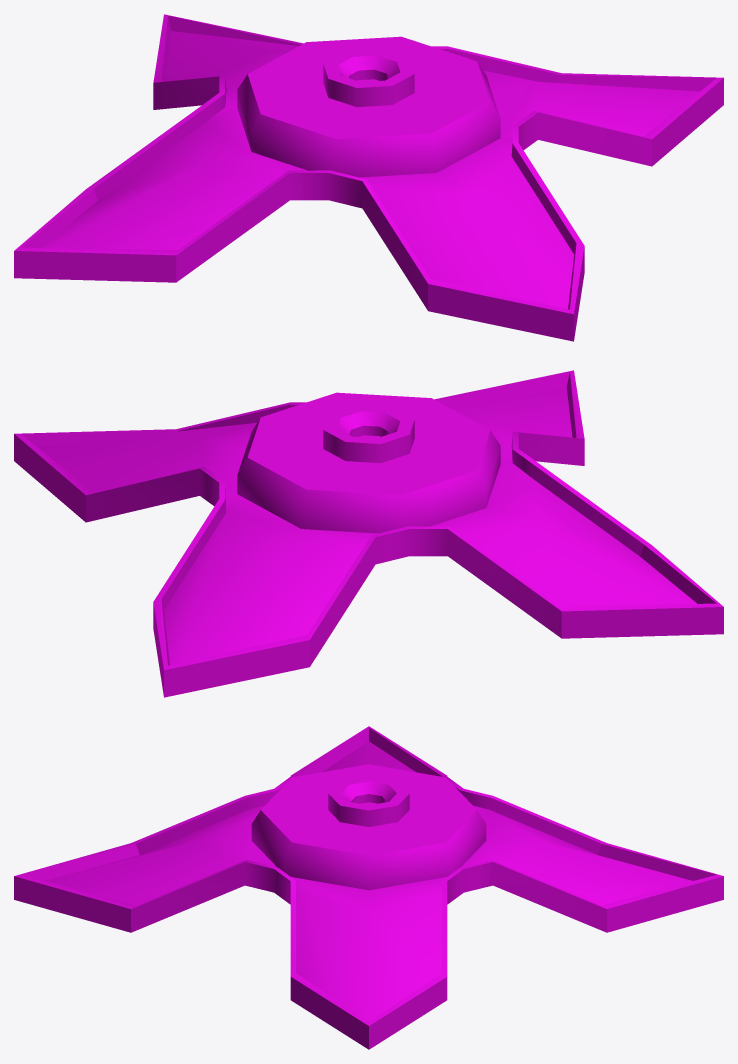
File: Turret_stand.fbx
The picture shows the model from 3 angles, top to bottom: view 1: azimuth 30°, elevation 25°; view 2: azimuth 150°, elevation 25°; view 3: azimuth 270°, elevation 25°; orthographic projection. The views are drawn at different scales.
Visible parts, largest first — view 1: Turret_stand; view 2: Turret_stand; view 3: Turret_stand.
Boxes of the visible parts, bbox=[...] form: Turret_stand: bbox=[14, 14, 723, 341]; Turret_stand: bbox=[14, 370, 723, 697]; Turret_stand: bbox=[14, 726, 723, 1049].
Bounding box in the file's own units: 136 × 22.52 × 136.
